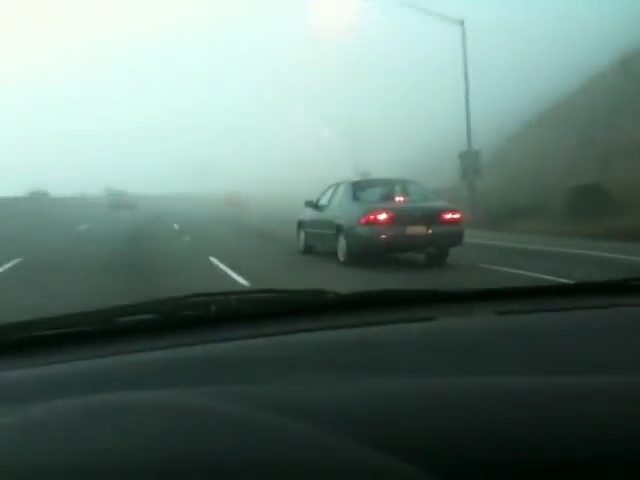car: (294, 176, 466, 266)
